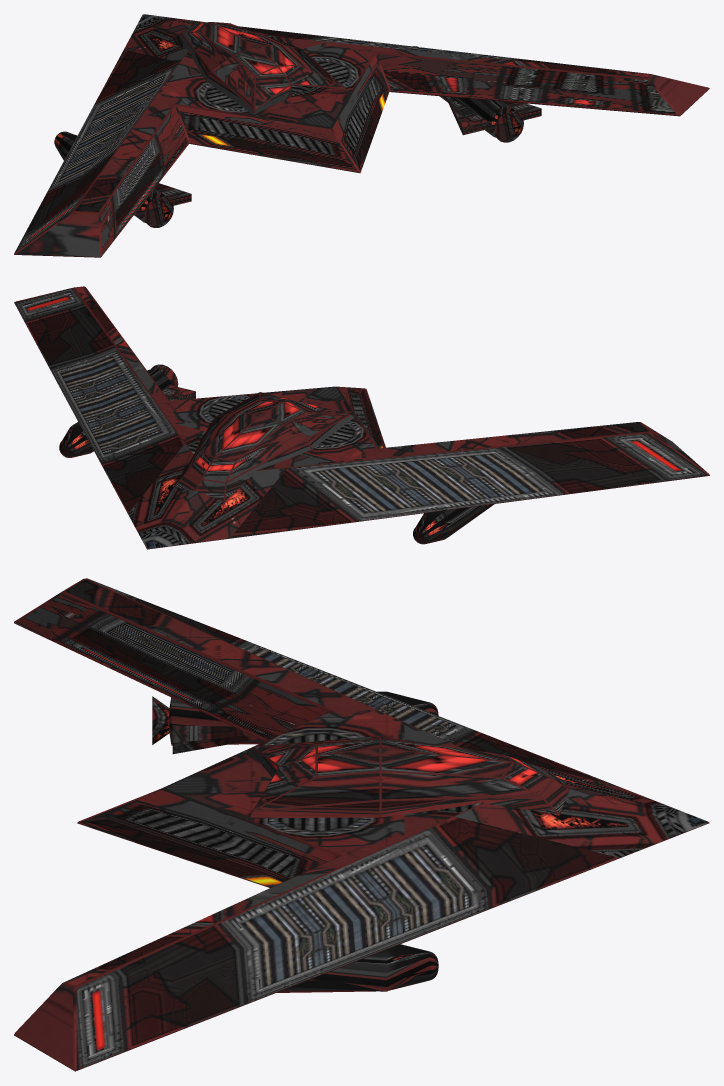
The model's file is Enemy1_2.fbx.
3 renders of one model, top to bottom at view 1: azimuth 30°, elevation 25°; view 2: azimuth 150°, elevation 25°; view 3: azimuth 270°, elevation 25°, orthographic. The views are drawn at different scales.
Visible parts, largest first — view 1: wnemy; view 2: wnemy; view 3: wnemy.
Boxes of the visible parts, bbox=[...] form: wnemy: bbox=[14, 14, 709, 257]; wnemy: bbox=[14, 286, 709, 549]; wnemy: bbox=[14, 578, 709, 1071].
Size of the model in its own units: 1166 by 132 by 696.
